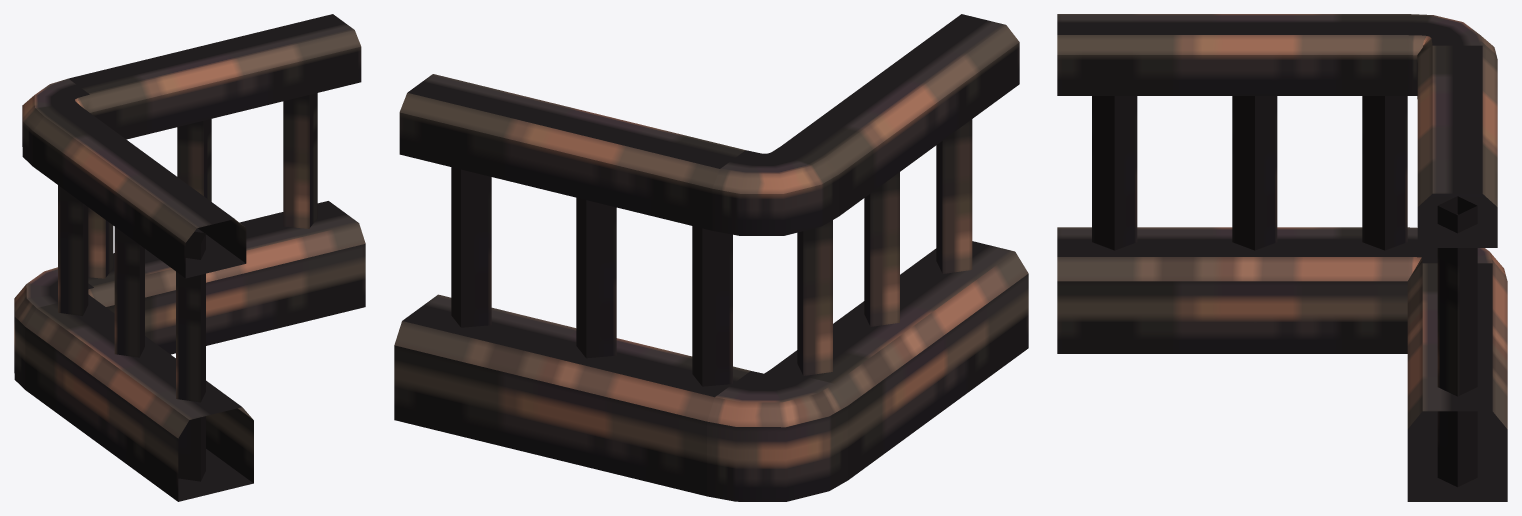
File: EnvBdgMD_Factory_B_Fenece_A_CoOunt_LF.FBX
3 views of the same model, side by side, from view 1: azimuth 30°, elevation 25°; view 2: azimuth 150°, elevation 25°; view 3: azimuth 270°, elevation 25° (orthographic). The views are drawn at different scales.
Parts seen in each view (by area): view 1: EnvBdgMD_Factory_B_Fenece_A_CoOunt_LF; view 2: EnvBdgMD_Factory_B_Fenece_A_CoOunt_LF; view 3: EnvBdgMD_Factory_B_Fenece_A_CoOunt_LF.
Part boxes in pixels (box(x1,y1,x2,y2)): EnvBdgMD_Factory_B_Fenece_A_CoOunt_LF: box(14, 14, 365, 501); EnvBdgMD_Factory_B_Fenece_A_CoOunt_LF: box(394, 14, 1028, 501); EnvBdgMD_Factory_B_Fenece_A_CoOunt_LF: box(1057, 14, 1507, 501).
Bounding box in the file's own units: 113 × 85 × 112.
